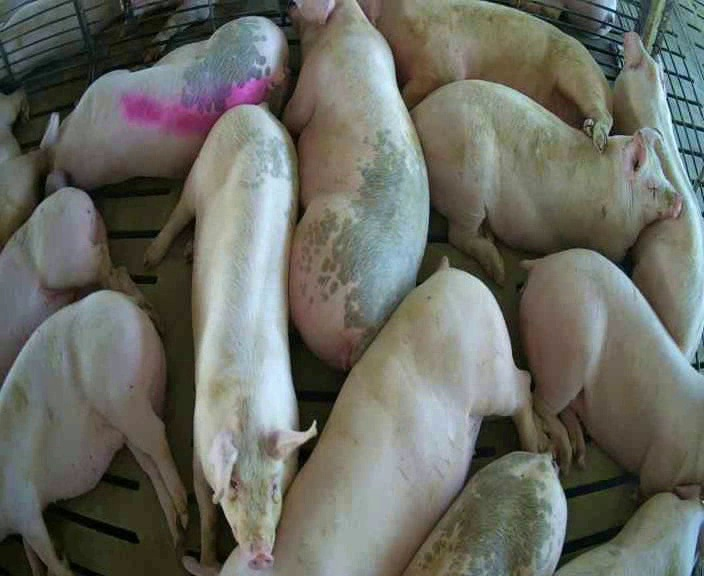pig: (182, 259, 543, 575), (145, 102, 315, 568), (412, 80, 680, 282), (283, 0, 427, 368), (0, 291, 186, 573), (520, 249, 703, 495), (39, 17, 289, 196), (362, 2, 611, 149), (613, 32, 703, 359), (0, 187, 142, 383), (404, 452, 566, 574), (556, 485, 703, 574), (0, 90, 52, 247)
